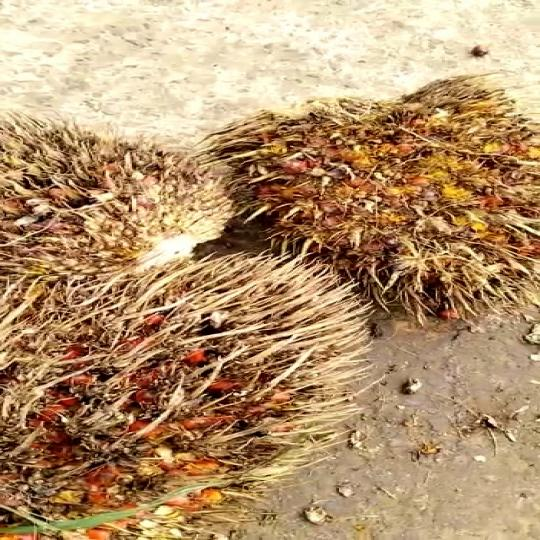terlalu masak: (0, 250, 385, 528), (195, 74, 540, 326)
